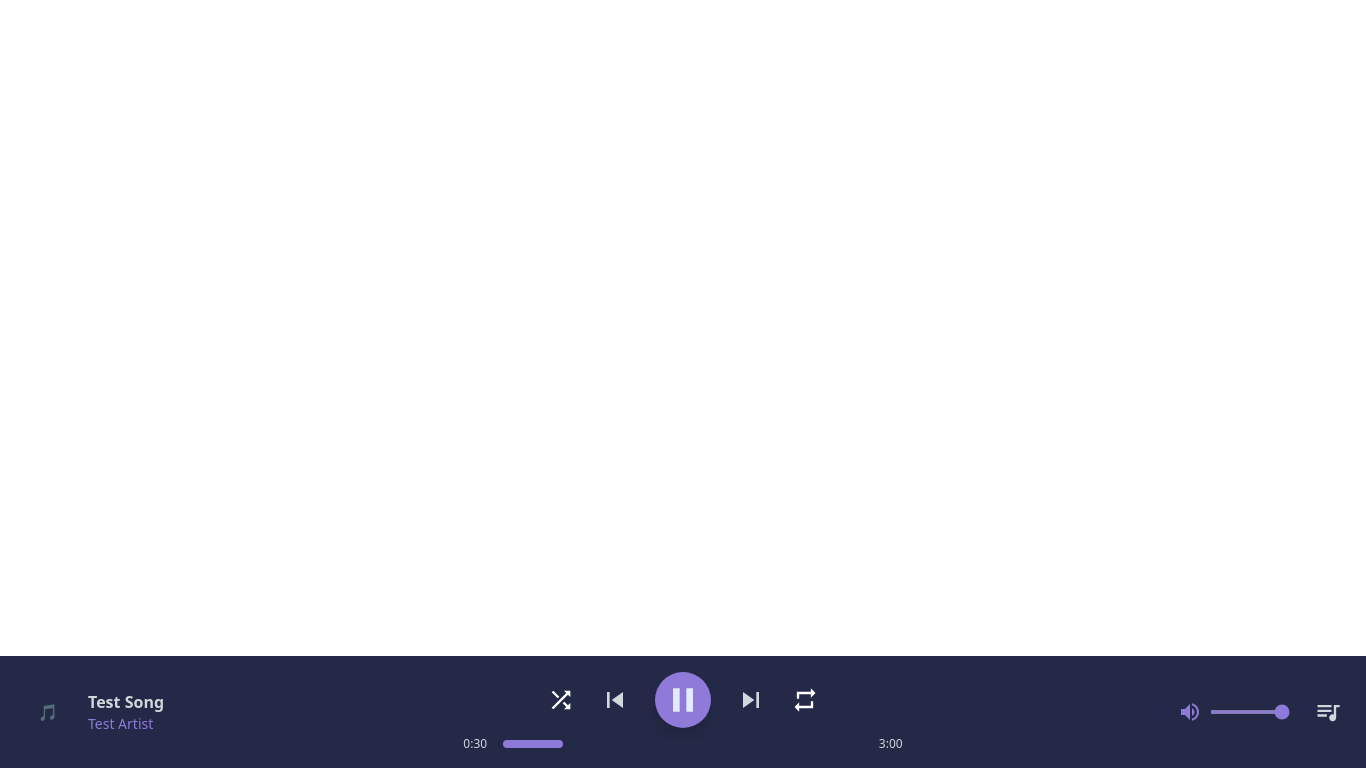
it: Player › should cycle repeat mode on click
This screenshot has width=1366, height=768.
Click the button titled "Repeat: off": [805, 700] box [791,686,819,714]
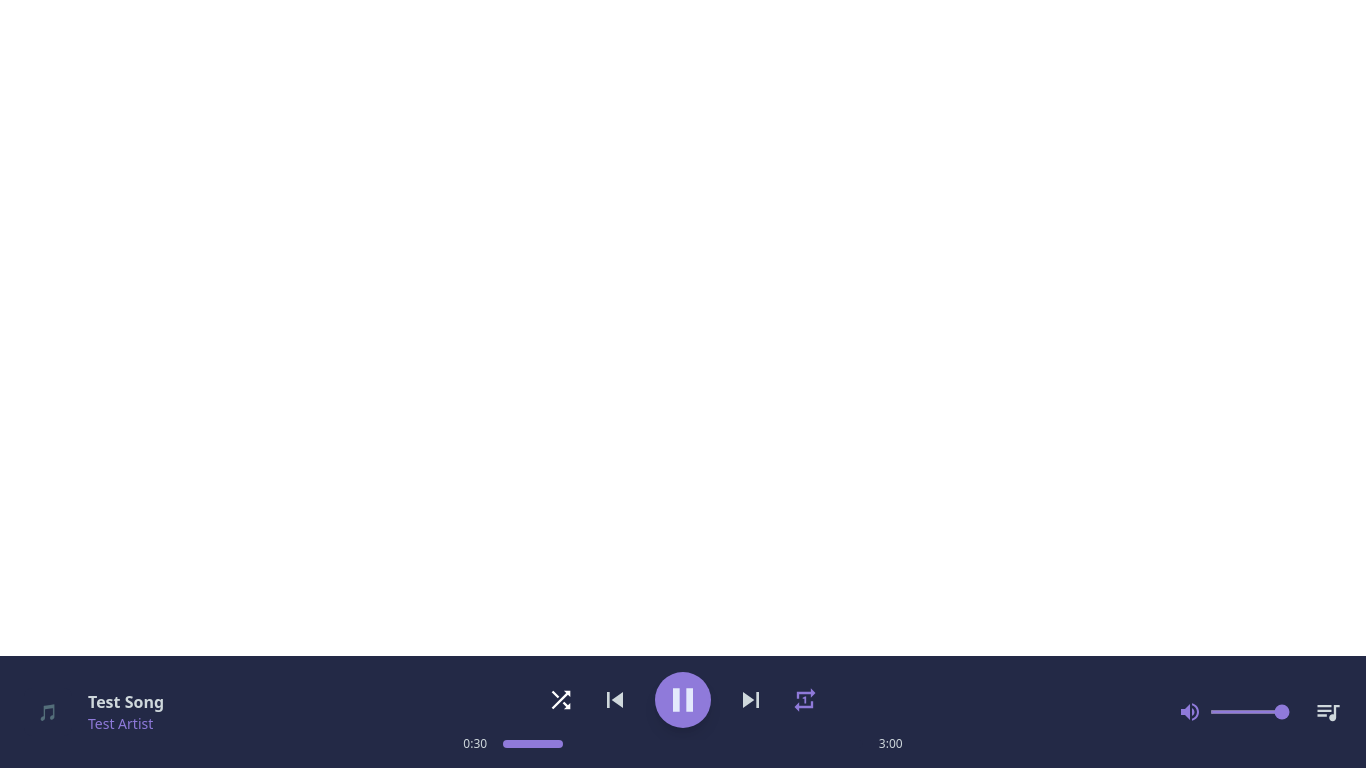
Now the button titled "Repeat: one" is shown
Click the button titled "Repeat: one": [805, 700] box [791,686,819,714]
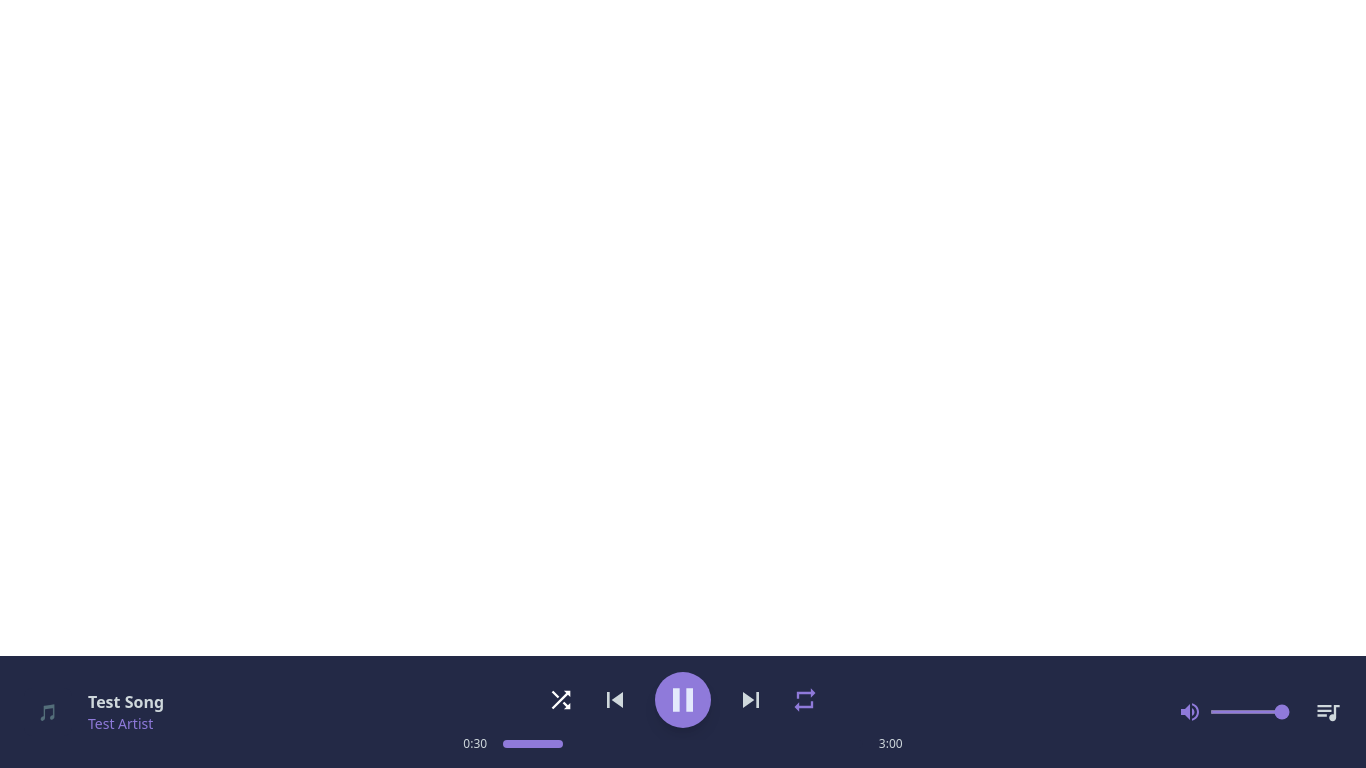
Now the button titled "Repeat: all" is shown
Click the button titled "Repeat: all": [805, 700] box [791,686,819,714]
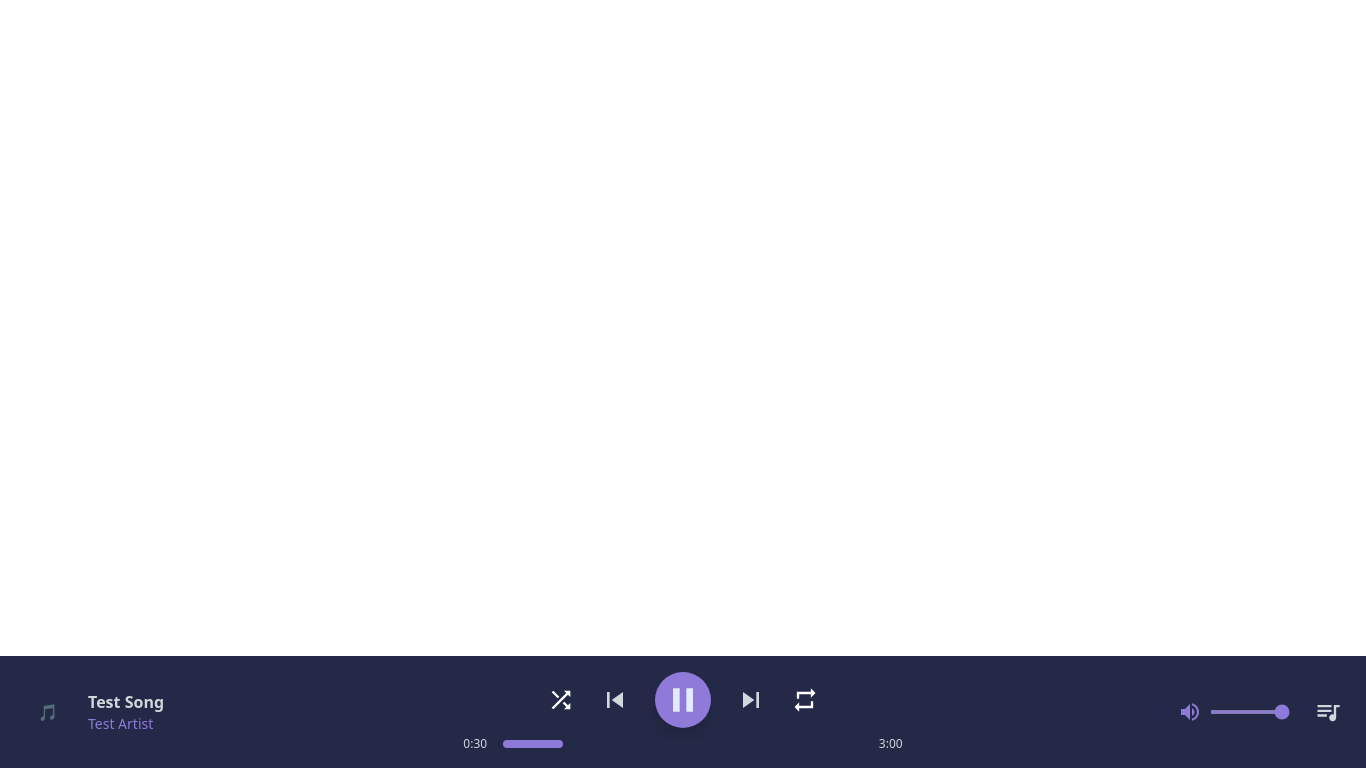
Now the button titled "Repeat: off" is shown, box [791,686,819,714]
